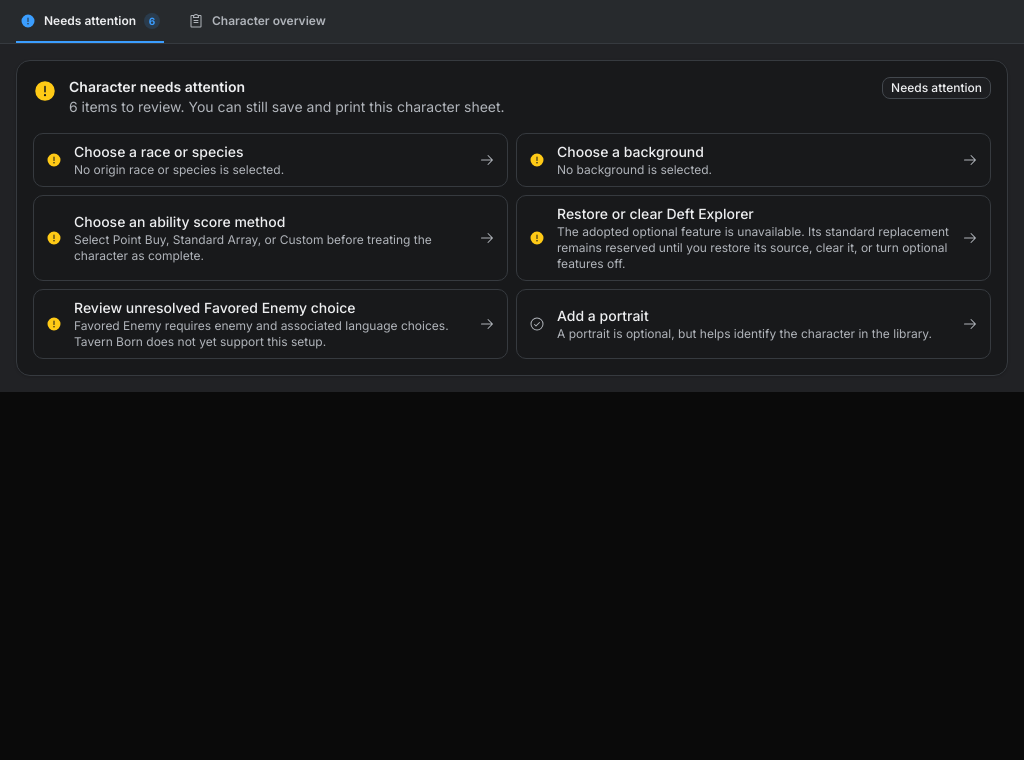
Scenario: Review retains raw Canny detail context with an explicit source-unavailable badge and no read writes
Click the tab "Character overview". click: (257, 22)
box: [184,0,330,43]
(page scrolled)
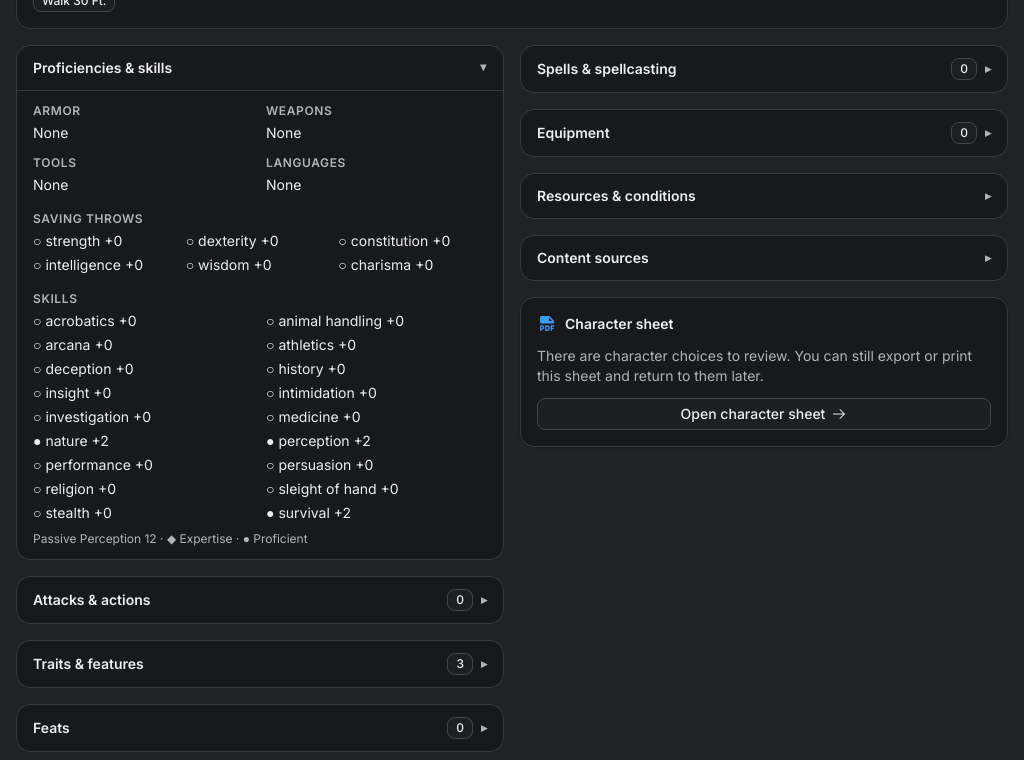
Click the heading "Traits & features 3 ▸". click: (88, 664)
box: [33,653,487,675]
(page scrolled)
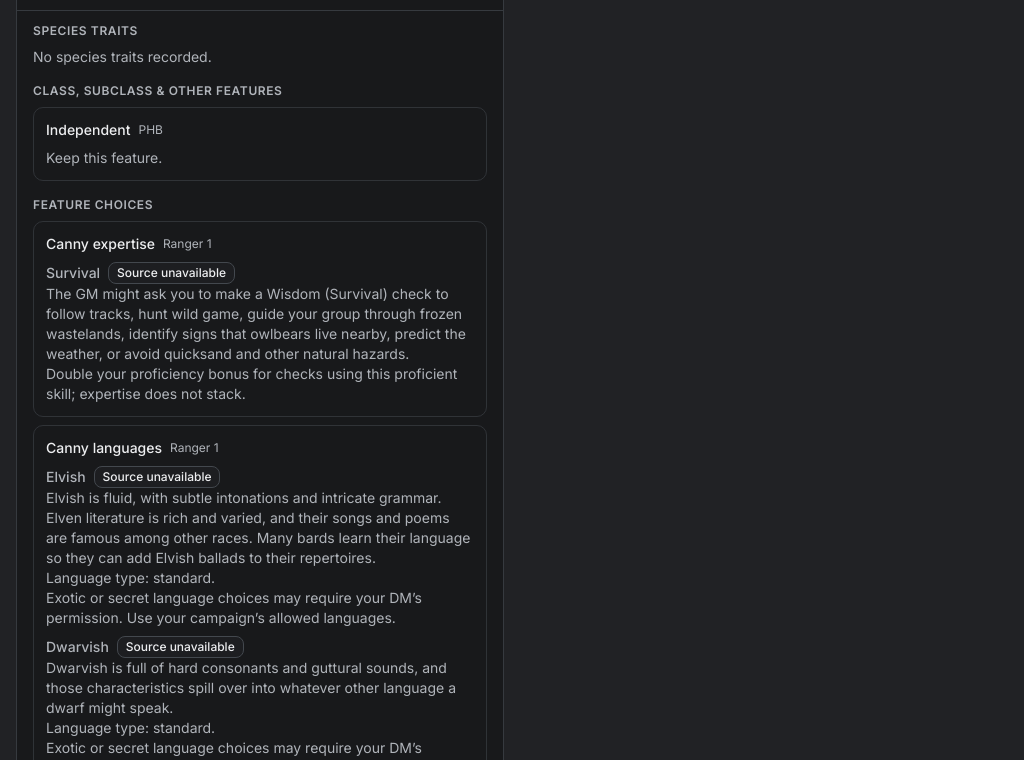
Expected: the text "Source unavailable" below "Canny expertise" is shown, [117,265,226,280]
Expected: the text "Double your proficiency bonus" is shown, [46,365,457,402]
